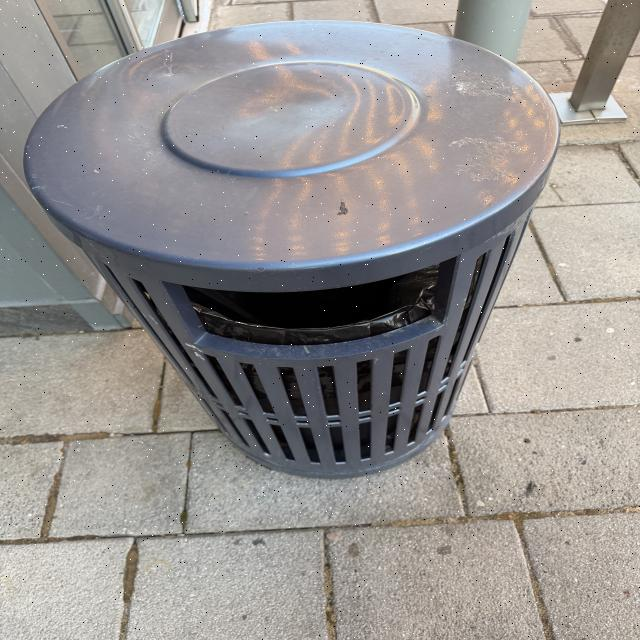Dustbin: (21, 20, 558, 479)
